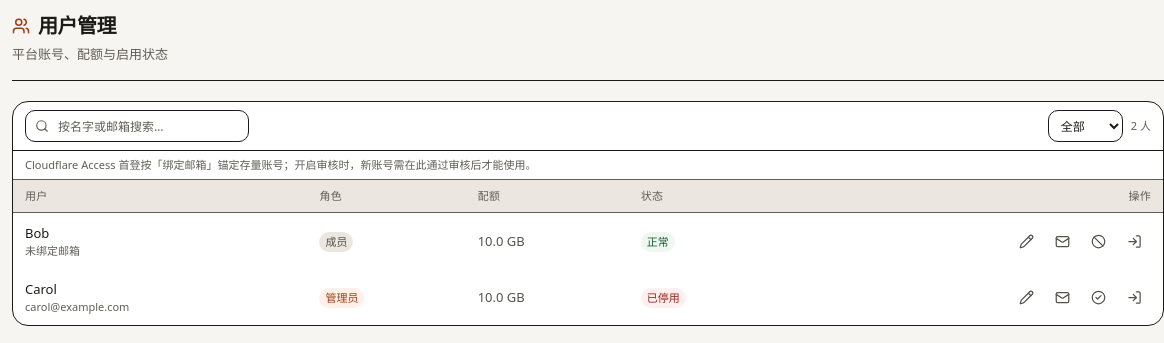
Test: admin filters users by keyword and status
Expected: the text "Bob" is shown, [25,223,49,243]
Type "carol" into the field named "搜索用户". click: (137,126)
box: [25,110,249,142]
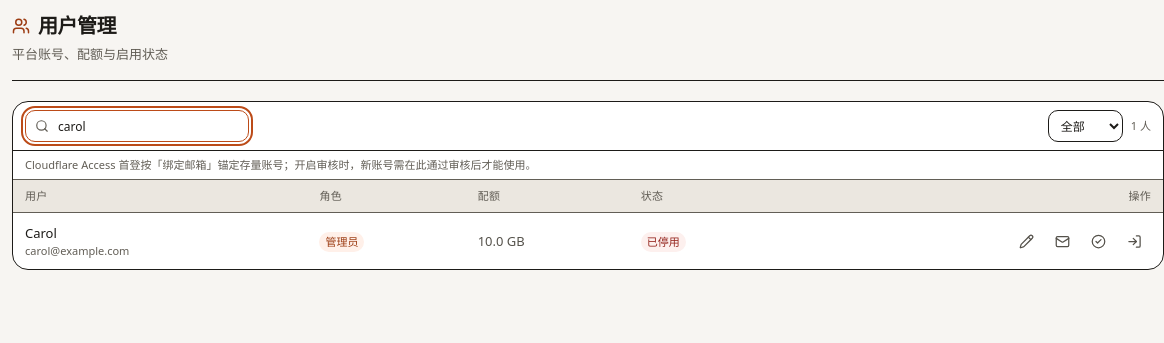
Expected: the text "Carol" is shown, [25,223,57,243]
Now the text "Bob" is gone
Clear the field named "搜索用户". click: (137,126)
box: [25,110,249,142]
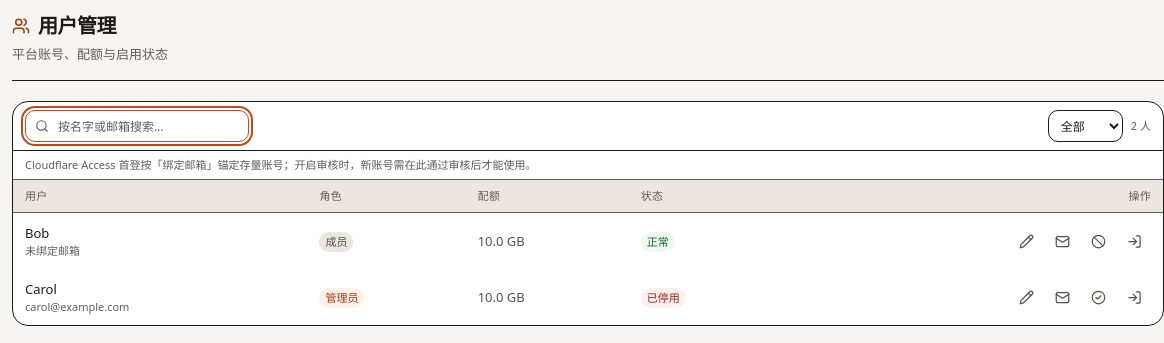
Select "已停用" in the dropdown named "状态筛选". click: (1085,126)
box: [1048,110,1123,142]
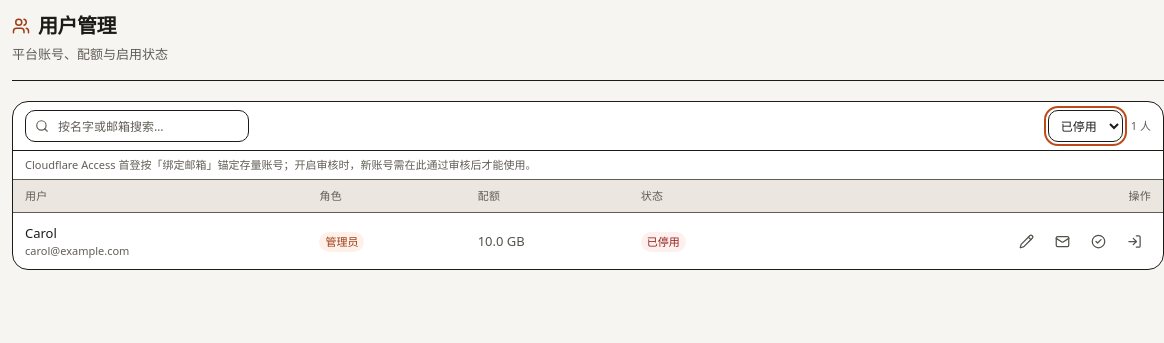
Expected: the text "Carol" shows "已停用", [647,234,680,248]
Now the text "Bob" is gone
